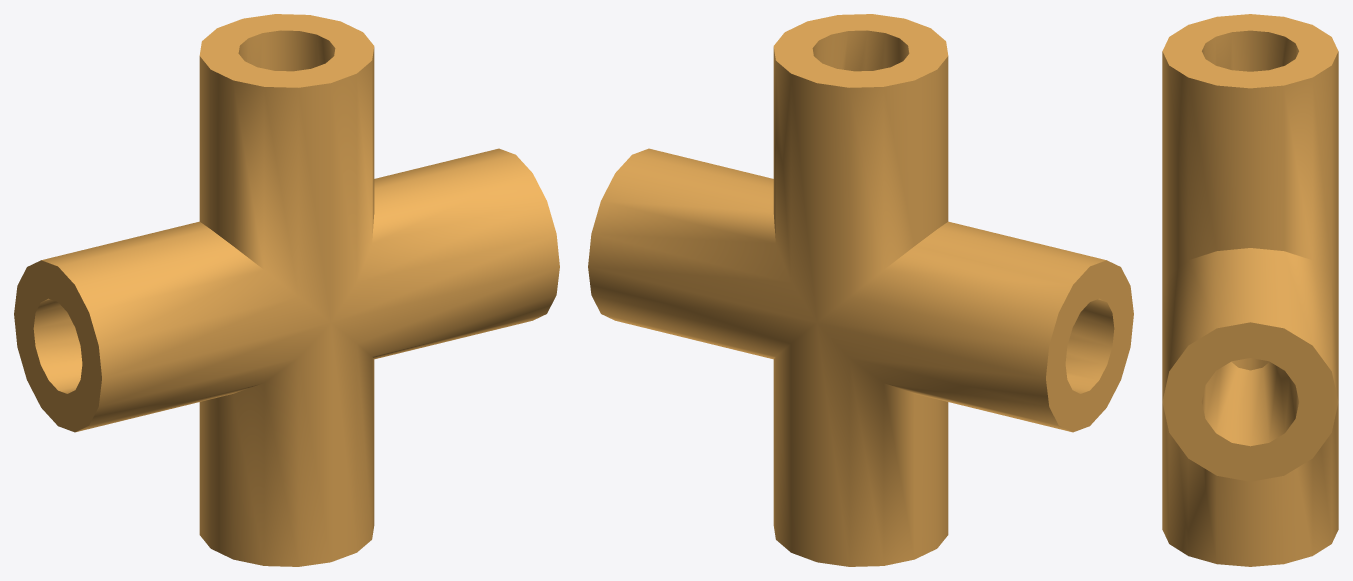
The model's file is Joint_Cross.fbx.
3 views of the same model, side by side, from view 1: azimuth 30°, elevation 25°; view 2: azimuth 150°, elevation 25°; view 3: azimuth 270°, elevation 25° (orthographic).
Parts seen in each view (by area): view 1: Joint_Cross; view 2: Joint_Cross; view 3: Joint_Cross.
Part boxes in pixels (x1,y1,x2,y2): Joint_Cross: (14, 14, 559, 566); Joint_Cross: (588, 14, 1133, 566); Joint_Cross: (1162, 14, 1338, 566).
Bounding box in the file's own units: 336 × 336 × 112.
